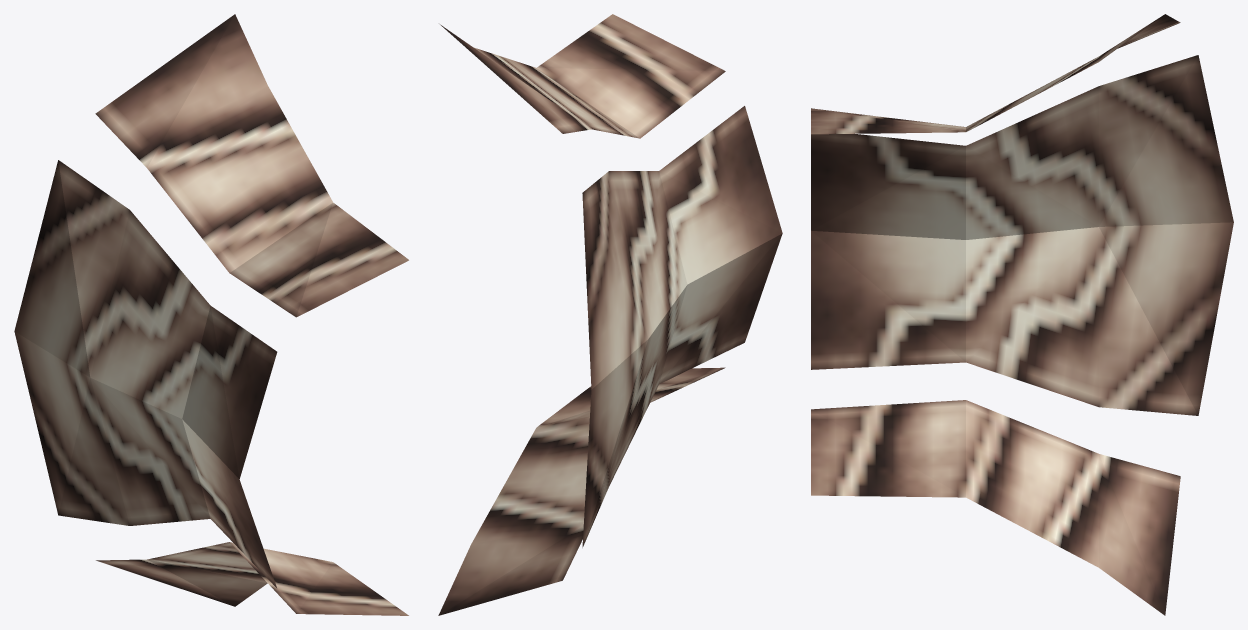
3 renders of one model, left to right at view 1: azimuth 30°, elevation 25°; view 2: azimuth 150°, elevation 25°; view 3: azimuth 270°, elevation 25°, orthographic.
Visible parts, largest first — view 1: B_0047_3a_0; view 2: B_0047_3a_0; view 3: B_0047_3a_0.
Boxes of the visible parts, x1,y1,x2,y2 form: B_0047_3a_0: (14, 14, 408, 615); B_0047_3a_0: (438, 14, 782, 615); B_0047_3a_0: (811, 14, 1233, 615).
Bounding box in the file's own units: 0.1782 × 0.54 × 0.3438.
Materials: 1 (1 with a texture image).
